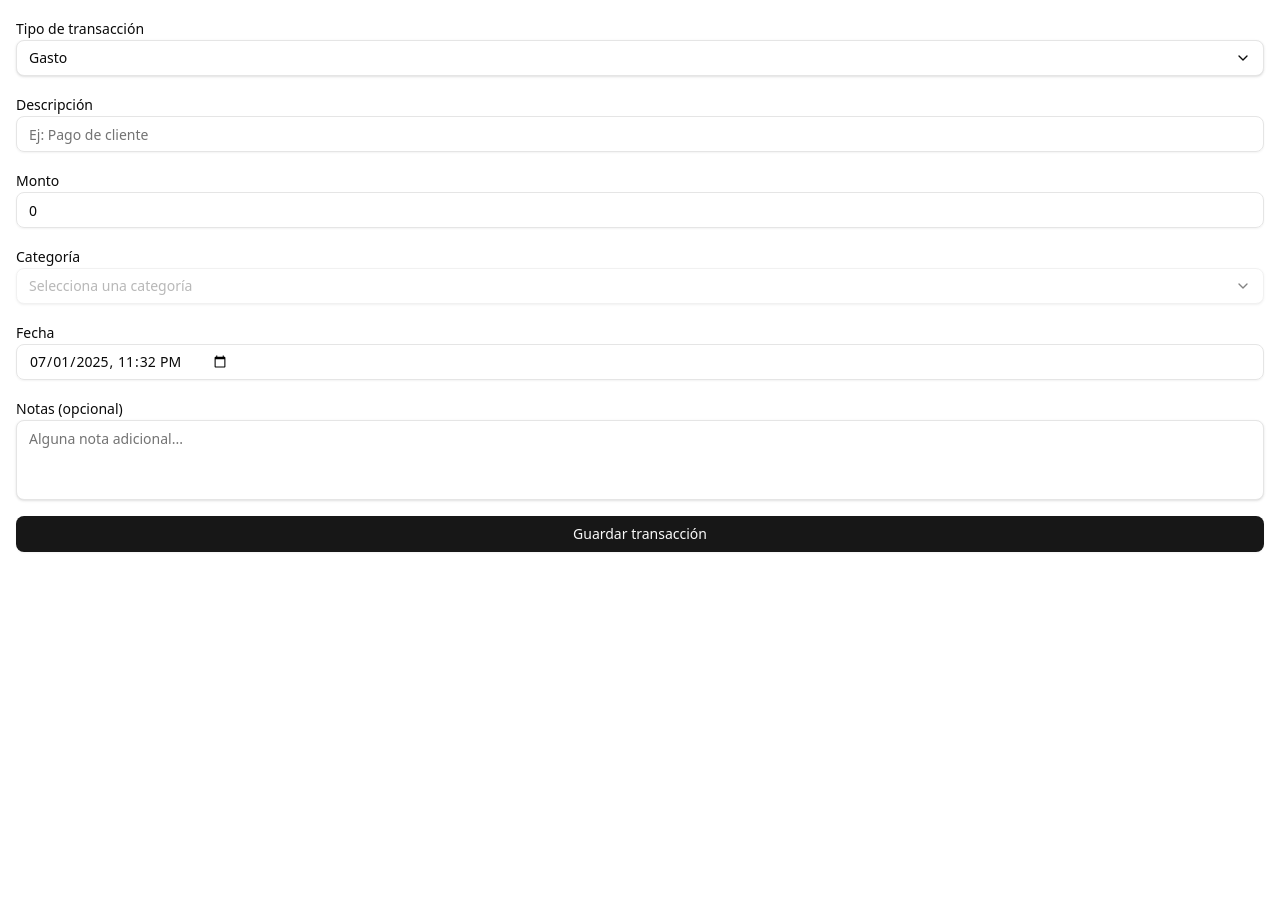
Test case: TransactionForm › validates required fields
Click the button "Guardar transacción": (640,534) [16,516,1264,552]
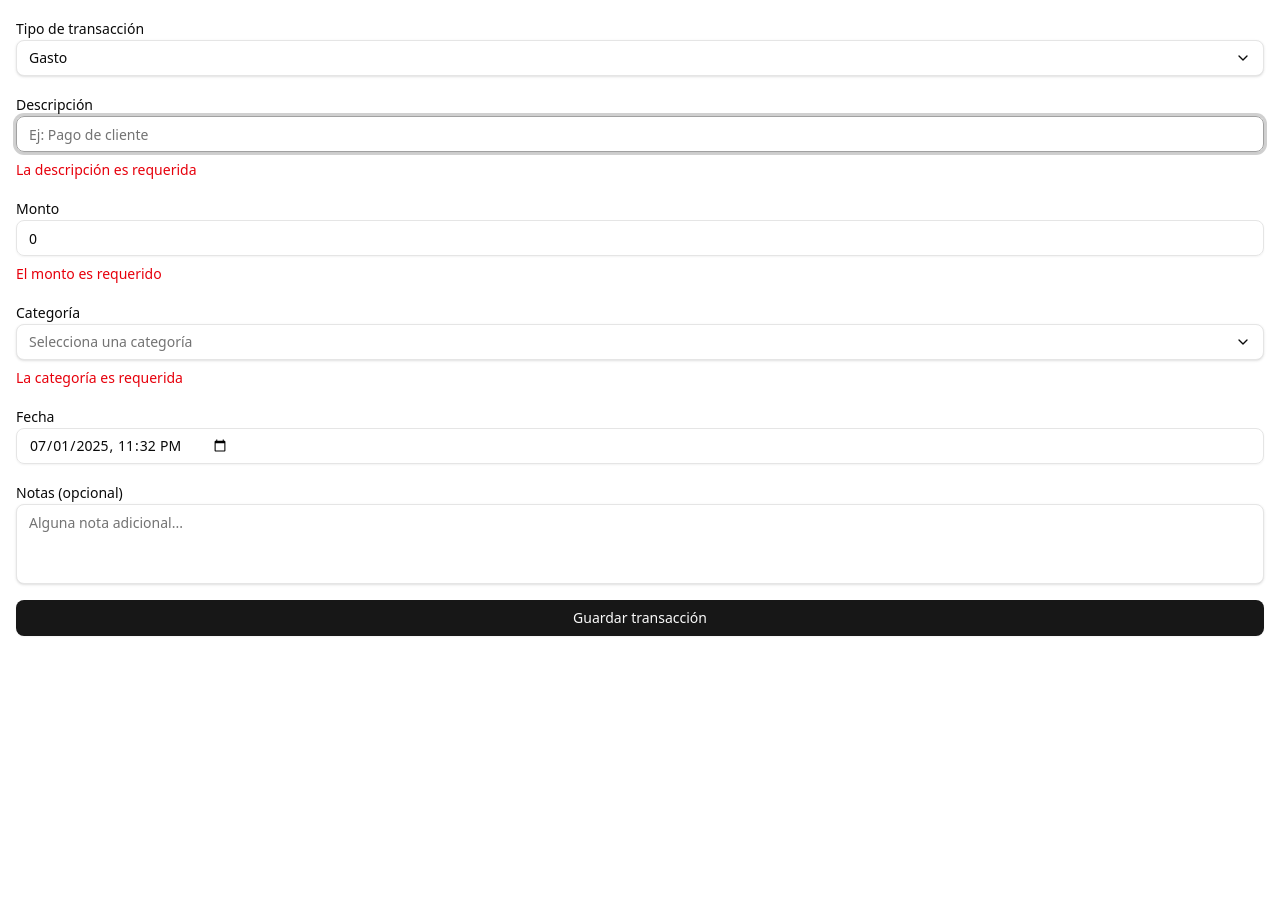
Expected: the text "La descripción es requerida" is shown, [16,160,196,179]
Expected: the text "El monto es requerido" is shown, [16,264,162,283]
Expected: the text "La categoría es requerida" is shown, [16,368,183,387]
